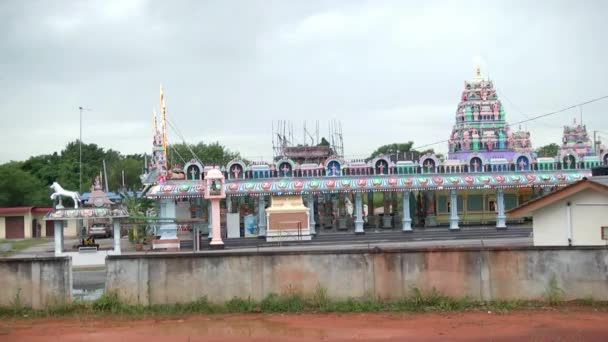Hindu Temple: (66, 77, 586, 236)
